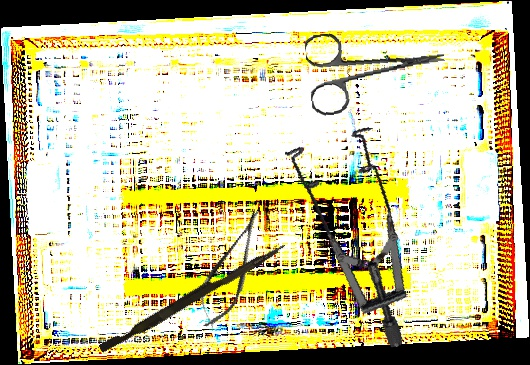Iris Scissors: (303, 19, 450, 118)
Micro Scissor: (186, 202, 277, 335)
Pusher: (98, 236, 287, 358)
Speculum: (245, 109, 451, 350)
